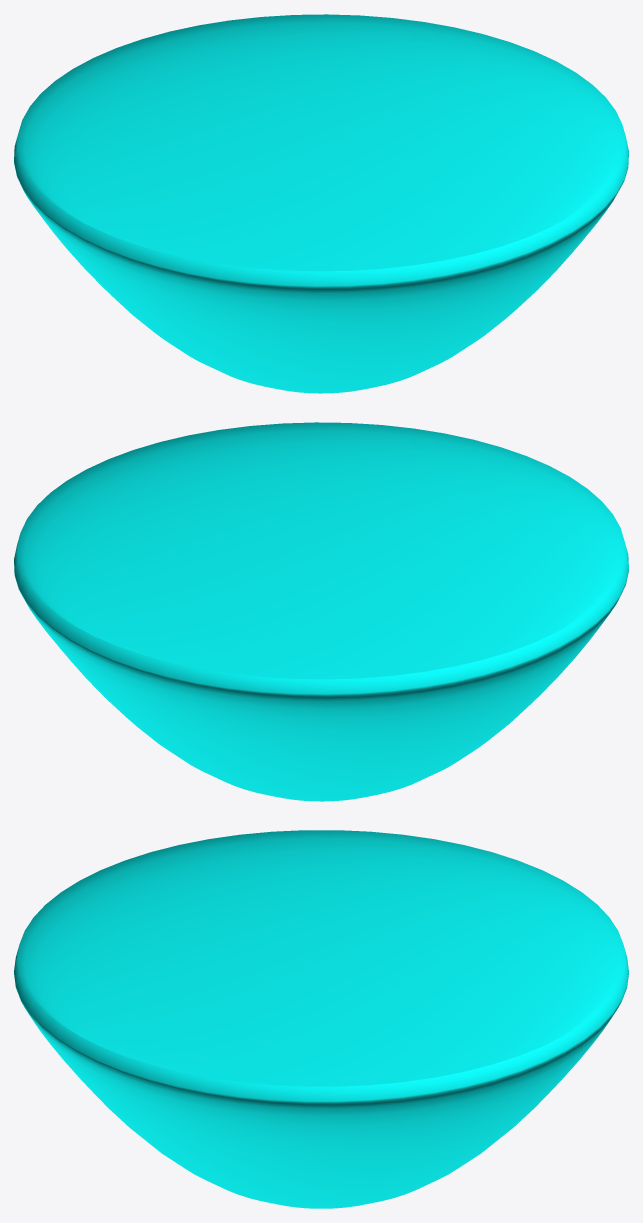
The model's file is poi_trigger.fbx.
3 views of the same model, one above another, from view 1: azimuth 30°, elevation 25°; view 2: azimuth 150°, elevation 25°; view 3: azimuth 270°, elevation 25° (orthographic).
Visible parts, largest first — view 1: polySurface3; view 2: polySurface3; view 3: polySurface3.
Part boxes in pixels (left/top/right/bottom): polySurface3: left=14, top=14, right=628, bottom=393; polySurface3: left=14, top=422, right=628, bottom=801; polySurface3: left=14, top=830, right=628, bottom=1208.
Bounding box in the file's own units: 37.34 × 14.87 × 37.4.
